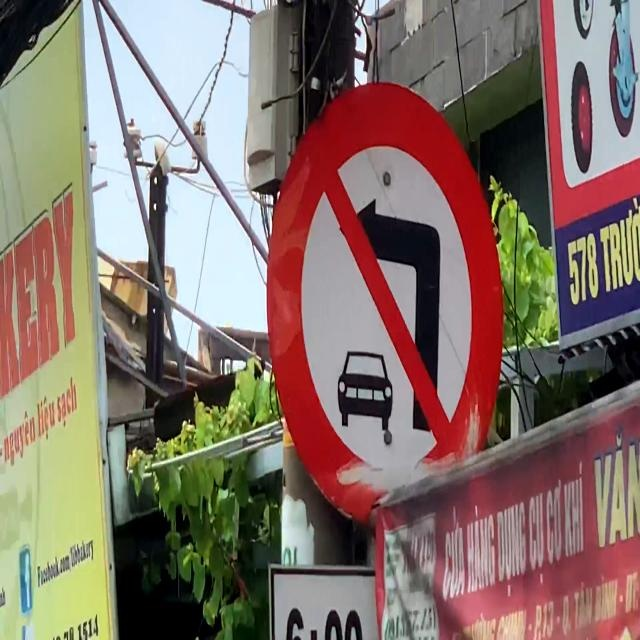bien_cam: (264, 79, 506, 535)
